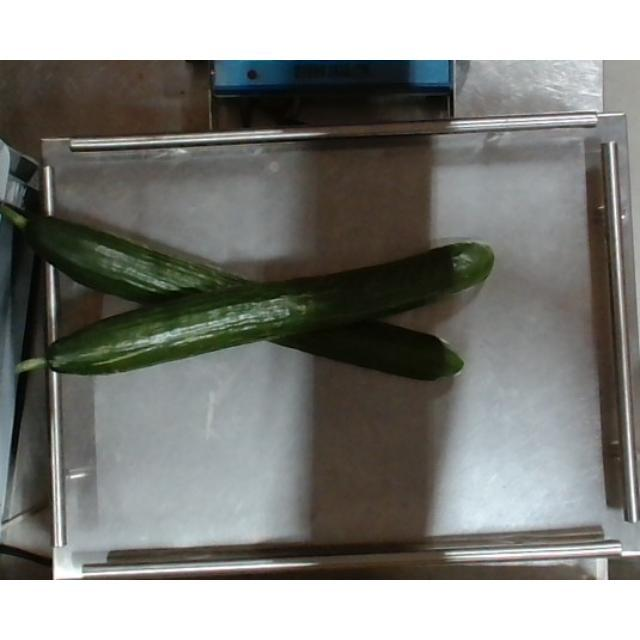cucumber: (0, 197, 490, 383), (2, 242, 500, 382)
